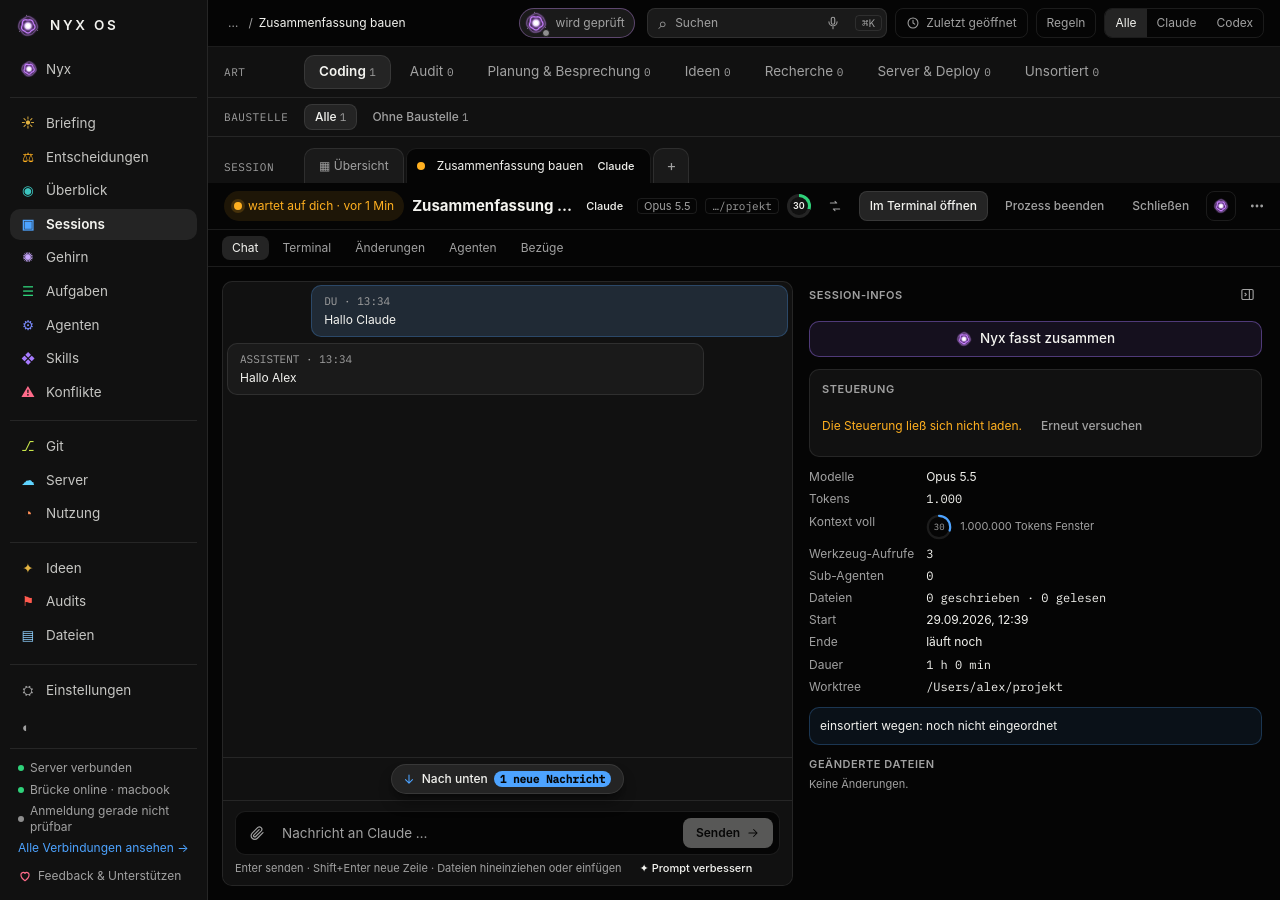
Test: Nyx fasst zusammen › Nyx nicht bereit → ehrlicher Satz in der Karte statt stiller Fehler
Click the button "Nyx fasst zusammen" at (1036, 339), box left=809, top=321, right=1262, bottom=357
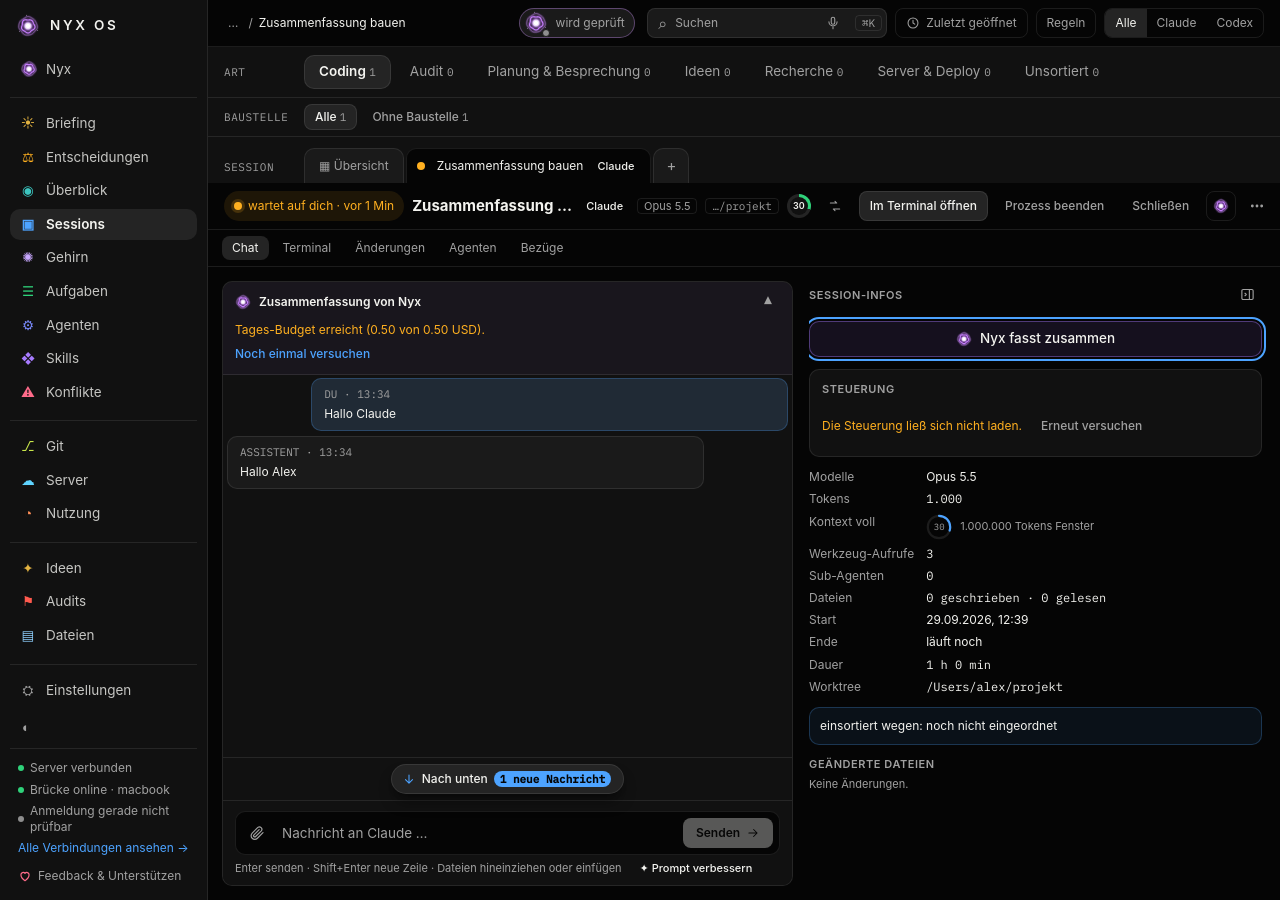
Check: the element with test id "session-summary" shows "Tages-Budget erreicht", box left=235, top=322, right=485, bottom=337
